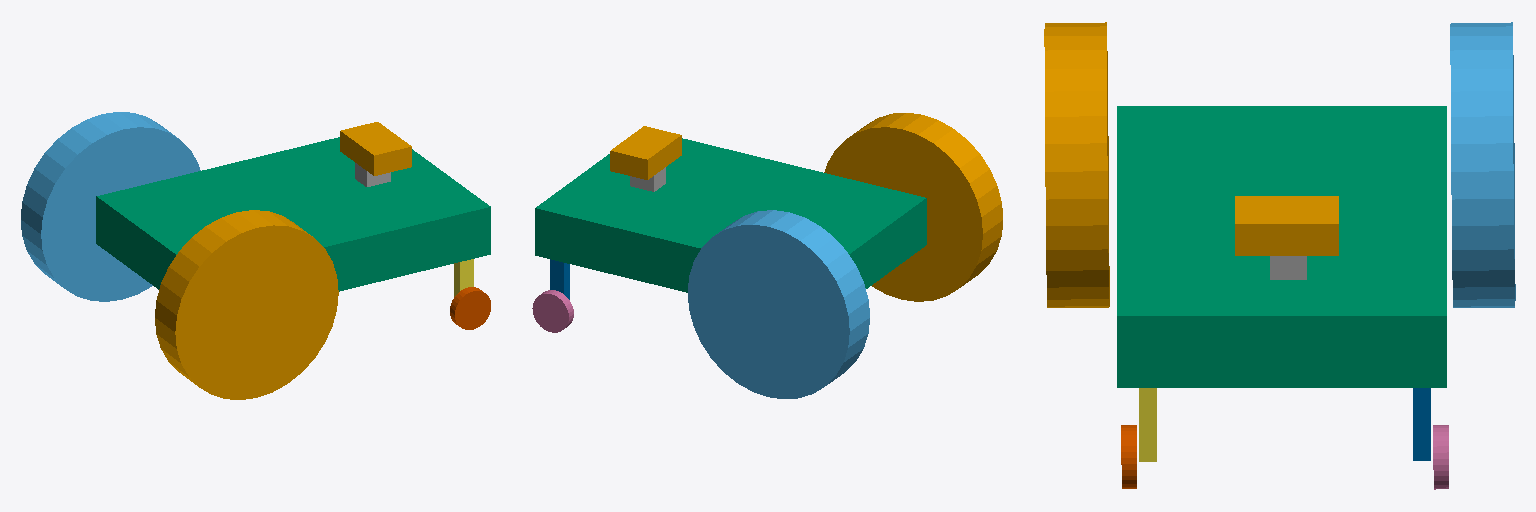
URDF robot description (wagen):
<?xml version="1.0" ?>
<robot name="wagen">
  <joint name="wagen__base__front_right_sup" type="fixed">
    <parent link="wagen__link_1"/>
    <child link="wagen__link_2"/>
    <origin xyz="0.47179 -0.47807 -0.18387" rpy="0 0 0"/>
    <axis xyz="0 0 0"/>
    <limit lower="0" upper="0" effort="0" velocity="0"/>
  </joint>
  <joint name="wagen__link_1_JOINT_1" type="fixed">
    <parent link="wagen__link_1"/>
    <child link="wagen__link_2_clone"/>
    <origin xyz="0.47179  0.48397 -0.18387" rpy="0 0 0"/>
    <axis xyz="0 0 0"/>
    <limit lower="0" upper="0" effort="0" velocity="0"/>
  </joint>
  <joint name="wagen__link_1_JOINT_2" type="fixed">
    <parent link="wagen__link_1"/>
    <child link="wagen__link_4"/>
    <origin xyz="0.1981  0.0148  0.30353" rpy="0 0 0"/>
    <axis xyz="0 0 0"/>
    <limit lower="0" upper="0" effort="0" velocity="0"/>
  </joint>
  <joint name="wagen__link_1_JOINT_6" type="revolute">
    <parent link="wagen__link_1"/>
    <child link="wagen__link_0"/>
    <origin xyz="-1.0016  -0.72613  0.09996" rpy="1.5807 0     0"/>
    <axis xyz="0 0 1"/>
    <limit lower="-1.79769e+308" upper="1.79769e+308" effort="-1.0" velocity="-1.0"/>
  </joint>
  <joint name="wagen__link_1_JOINT_7" type="revolute">
    <parent link="wagen__link_1"/>
    <child link="wagen__link_0_clone"/>
    <origin xyz="-1.0016   0.69608  0.09996" rpy="1.5807 0     0"/>
    <axis xyz="0 0 1"/>
    <limit lower="-1.79769e+308" upper="1.79769e+308" effort="-1.0" velocity="-1.0"/>
  </joint>
  <joint name="wagen__link_2_JOINT_4" type="revolute">
    <parent link="wagen__link_2"/>
    <child link="wagen__link_3"/>
    <origin xyz="0.00163 -0.0648  -0.15447" rpy="1.5807 0     0"/>
    <axis xyz="0 0 1"/>
    <limit lower="-1.79769e+308" upper="1.79769e+308" effort="-1.0" velocity="-1.0"/>
  </joint>
  <joint name="wagen__link_2_clone_JOINT_5" type="revolute">
    <parent link="wagen__link_2_clone"/>
    <child link="wagen__link_3_clone_clone"/>
    <origin xyz="0.00163  0.06612 -0.15753" rpy="1.5807 0     0"/>
    <axis xyz="0 0 1"/>
    <limit lower="-1.79769e+308" upper="1.79769e+308" effort="-1.0" velocity="-1.0"/>
  </joint>
  <joint name="wagen__link_4_JOINT_3" type="fixed">
    <parent link="wagen__link_4"/>
    <child link="wagen__link_4_clone"/>
    <origin xyz="0.01594 -0.00523  0.12881" rpy="0 0 0"/>
    <axis xyz="0 0 0"/>
    <limit lower="0" upper="0" effort="0" velocity="0"/>
  </joint>
  <link name="wagen__link_0">
    <inertial>
      <mass value="12.8545"/>
      <origin xyz="0 0 0" rpy="0 0 0"/>
      <inertia ixx="0.854416" ixy="0" ixz="0" iyy="0.854416" iyz="0" izz="1.60681"/>
    </inertial>
    <collision name="wagen__collision">
      <origin xyz="0 0 0" rpy="0 0 0"/>
      <geometry>
        <cylinder radius="0.5" length="0.218224"/>
      </geometry>
    </collision>
    <visual name="wagen__visual">
      <origin xyz="0 0 0" rpy="0 0 0"/>
      <geometry>
        <cylinder radius="0.5" length="0.218224"/>
      </geometry>
    </visual>
  </link>
  <link name="wagen__link_0_clone">
    <inertial>
      <mass value="12.8545"/>
      <origin xyz="0 0 0" rpy="0 0 0"/>
      <inertia ixx="0.854416" ixy="0" ixz="0" iyy="0.854416" iyz="0" izz="1.60681"/>
    </inertial>
    <collision name="wagen__collision">
      <origin xyz="0 0 0" rpy="0 0 0"/>
      <geometry>
        <cylinder radius="0.5" length="0.218224"/>
      </geometry>
    </collision>
    <visual name="wagen__visual">
      <origin xyz="0 0 0" rpy="0 0 0"/>
      <geometry>
        <cylinder radius="0.5" length="0.218224"/>
      </geometry>
    </visual>
  </link>
  <link name="wagen__link_1">
    <inertial>
      <mass value="42.3297"/>
      <origin xyz="0 0 0" rpy="0 0 0"/>
      <inertia ixx="5.00201" ixy="0" ixz="0" iyy="11.0113" iyz="0" izz="15.4622"/>
    </inertial>
    <collision name="wagen__collision">
      <origin xyz="-0.29939 -0.00744  0.11172" rpy="0 0 0"/>
      <geometry>
        <box size="1.74456 1.15754 0.279488"/>
      </geometry>
    </collision>
    <visual name="wagen__visual">
      <origin xyz="-0.29939 -0.00744  0.11172" rpy="0 0 0"/>
      <geometry>
        <box size="1.74456 1.15754 0.279488"/>
      </geometry>
    </visual>
  </link>
  <link name="wagen__link_2">
    <inertial>
      <mass value="0.128841"/>
      <origin xyz="0 0 0" rpy="0 0 0"/>
      <inertia ixx="0.00108321" ixy="0" ixz="0" iyy="0.00112403" iyz="0" izz="0.00012531"/>
    </inertial>
    <collision name="wagen__collision">
      <origin xyz="0 0 0" rpy="0 0 0"/>
      <geometry>
        <box size="0.087958 0.062724 0.311374"/>
      </geometry>
    </collision>
    <visual name="wagen__visual">
      <origin xyz="0 0 0" rpy="0 0 0"/>
      <geometry>
        <box size="0.087958 0.062724 0.311374"/>
      </geometry>
    </visual>
  </link>
  <link name="wagen__link_2_clone">
    <inertial>
      <mass value="0.1264"/>
      <origin xyz="0 0 0" rpy="0 0 0"/>
      <inertia ixx="0.00102437" ixy="0" ixz="0" iyy="0.00106442" iyz="0" izz="0.00012293"/>
    </inertial>
    <collision name="wagen__collision">
      <origin xyz="0 0 0" rpy="0 0 0"/>
      <geometry>
        <box size="0.087958 0.062724 0.305476"/>
      </geometry>
    </collision>
    <visual name="wagen__visual">
      <origin xyz="0 0 0" rpy="0 0 0"/>
      <geometry>
        <box size="0.087958 0.062724 0.305476"/>
      </geometry>
    </visual>
  </link>
  <link name="wagen__link_3">
    <inertial>
      <mass value="0.162172"/>
      <origin xyz="0 0 0" rpy="0 0 0"/>
      <inertia ixx="0.00055146" ixy="0" ixz="0" iyy="0.00055146" iyz="0" izz="0.00102238"/>
    </inertial>
    <collision name="wagen__collision">
      <origin xyz="0 0 0" rpy="0 0 0"/>
      <geometry>
        <cylinder radius="0.112288" length="0.054588"/>
      </geometry>
    </collision>
    <visual name="wagen__visual">
      <origin xyz="0 0 0" rpy="0 0 0"/>
      <geometry>
        <cylinder radius="0.112288" length="0.0545882"/>
      </geometry>
    </visual>
  </link>
  <link name="wagen__link_3_clone_clone">
    <inertial>
      <mass value="0.162172"/>
      <origin xyz="0 0 0" rpy="0 0 0"/>
      <inertia ixx="0.00055146" ixy="0" ixz="0" iyy="0.00055146" iyz="0" izz="0.00102238"/>
    </inertial>
    <collision name="wagen__collision">
      <origin xyz="0 0 0" rpy="0 0 0"/>
      <geometry>
        <cylinder radius="0.112288" length="0.054588"/>
      </geometry>
    </collision>
    <visual name="wagen__visual">
      <origin xyz="0 0 0" rpy="0 0 0"/>
      <geometry>
        <cylinder radius="0.112288" length="0.0545882"/>
      </geometry>
    </visual>
  </link>
  <link name="wagen__link_4">
    <inertial>
      <mass value="0.174063"/>
      <origin xyz="0 0 0" rpy="0 0 0"/>
      <inertia ixx="0.00044944" ixy="0" ixz="0" iyy="0.0005395" iyz="0" izz="0.00056272"/>
    </inertial>
    <collision name="wagen__collision">
      <origin xyz="0 0 0" rpy="0 0 0"/>
      <geometry>
        <box size="0.150006 0.127643 0.12121"/>
      </geometry>
    </collision>
    <visual name="wagen__visual">
      <origin xyz="0 0 0" rpy="0 0 0"/>
      <geometry>
        <box size="0.150006 0.127643 0.12121"/>
      </geometry>
    </visual>
  </link>
  <link name="wagen__link_4_clone">
    <inertial>
      <mass value="0.75804"/>
      <origin xyz="0 0 0" rpy="0 0 0"/>
      <inertia ixx="0.00919612" ixy="0" ixz="0" iyy="0.00428394" iyz="0" izz="0.0116239"/>
    </inertial>
    <collision name="wagen__collision">
      <origin xyz="0 0 0" rpy="0 0 0"/>
      <geometry>
        <box size="0.230487 0.361781 0.12121"/>
      </geometry>
    </collision>
    <visual name="wagen__visual">
      <origin xyz="0 0 0" rpy="0 0 0"/>
      <geometry>
        <box size="0.230487 0.361781 0.12121"/>
      </geometry>
    </visual>
  </link>
  
 <gazebo reference="wagen__link_4_clone">
    <sensor type="camera" name="camera1">
      <update_rate>30.0</update_rate>
      <camera name="head">
        <horizontal_fov>1.3962634</horizontal_fov>
        <image>
          <width>800</width>
          <height>800</height>
          <format>R8G8B8</format>
        </image>
        <clip>
          <near>0.02</near>
          <far>300</far>
        </clip>
        <noise>
          <type>gaussian</type>
          <!-- Noise is sampled independently per pixel on each frame.
               That pixel's noise value is added to each of its color
               channels, which at that point lie in the range [0,1]. -->
          <mean>0.0</mean>
          <stddev>0.007</stddev>
        </noise>
      </camera>
      <plugin name="camera_controller" filename="libgazebo_ros_camera.so">
        <alwaysOn>true</alwaysOn>
        <updateRate>0.0</updateRate>
        <cameraName>rrbot/camera1</cameraName>
        <imageTopicName>image_raw</imageTopicName>
        <cameraInfoTopicName>camera_info</cameraInfoTopicName>
        <frameName>camera_link</frameName>
        <hackBaseline>0.07</hackBaseline>
        <distortionK1>0.0</distortionK1>
        <distortionK2>0.0</distortionK2>
        <distortionK3>0.0</distortionK3>
        <distortionT1>0.0</distortionT1>
        <distortionT2>0.0</distortionT2>
      </plugin>
    </sensor>
  </gazebo>
  
</robot>

--- Facts derived from the render (not from the file) ---
The picture shows the robot from 3 angles, left to right: view 1: azimuth 30°, elevation 25°; view 2: azimuth 150°, elevation 25°; view 3: azimuth 270°, elevation 25°; orthographic projection.
Model wagen with 9 links and 8 joints (4 revolute, 4 fixed), rooted at wagen__link_1, posed every joint at zero.
Visible links, largest first — view 1: wagen__link_1, wagen__link_0, wagen__link_0_clone, wagen__link_4_clone, wagen__link_3, wagen__link_2; view 2: wagen__link_1, wagen__link_0_clone, wagen__link_0, wagen__link_4_clone, wagen__link_3_clone_clone, wagen__link_2_clone; view 3: wagen__link_1, wagen__link_0_clone, wagen__link_0, wagen__link_4_clone, wagen__link_2, wagen__link_2_clone, wagen__link_3_clone_clone, wagen__link_3, wagen__link_4.
Boxes of the visible links, left/top/right/bottom form: wagen__link_1: left=96, top=137, right=490, bottom=291; wagen__link_0: left=155, top=210, right=338, bottom=399; wagen__link_0_clone: left=21, top=112, right=200, bottom=301; wagen__link_4_clone: left=340, top=122, right=411, bottom=175; wagen__link_3: left=450, top=287, right=490, bottom=329; wagen__link_2: left=454, top=259, right=473, bottom=296; wagen__link_1: left=535, top=138, right=926, bottom=292; wagen__link_0_clone: left=688, top=210, right=869, bottom=398; wagen__link_0: left=824, top=113, right=1002, bottom=301; wagen__link_4_clone: left=610, top=126, right=681, bottom=179; wagen__link_3_clone_clone: left=532, top=290, right=573, bottom=332; wagen__link_2_clone: left=550, top=259, right=569, bottom=299; wagen__link_1: left=1117, top=106, right=1446, bottom=387; wagen__link_0_clone: left=1450, top=22, right=1515, bottom=307; wagen__link_0: left=1044, top=22, right=1109, bottom=307; wagen__link_4_clone: left=1235, top=196, right=1338, bottom=255; wagen__link_2: left=1139, top=388, right=1156, bottom=461; wagen__link_2_clone: left=1413, top=388, right=1430, bottom=460; wagen__link_3_clone_clone: left=1433, top=425, right=1448, bottom=489; wagen__link_3: left=1121, top=425, right=1136, bottom=488; wagen__link_4: left=1270, top=256, right=1306, bottom=279.
Bounding box of the posed robot: 2.09 × 1.65 × 1.05 m (x, y, z).
Geometry: primitives only (box / cylinder / sphere), no mesh files.